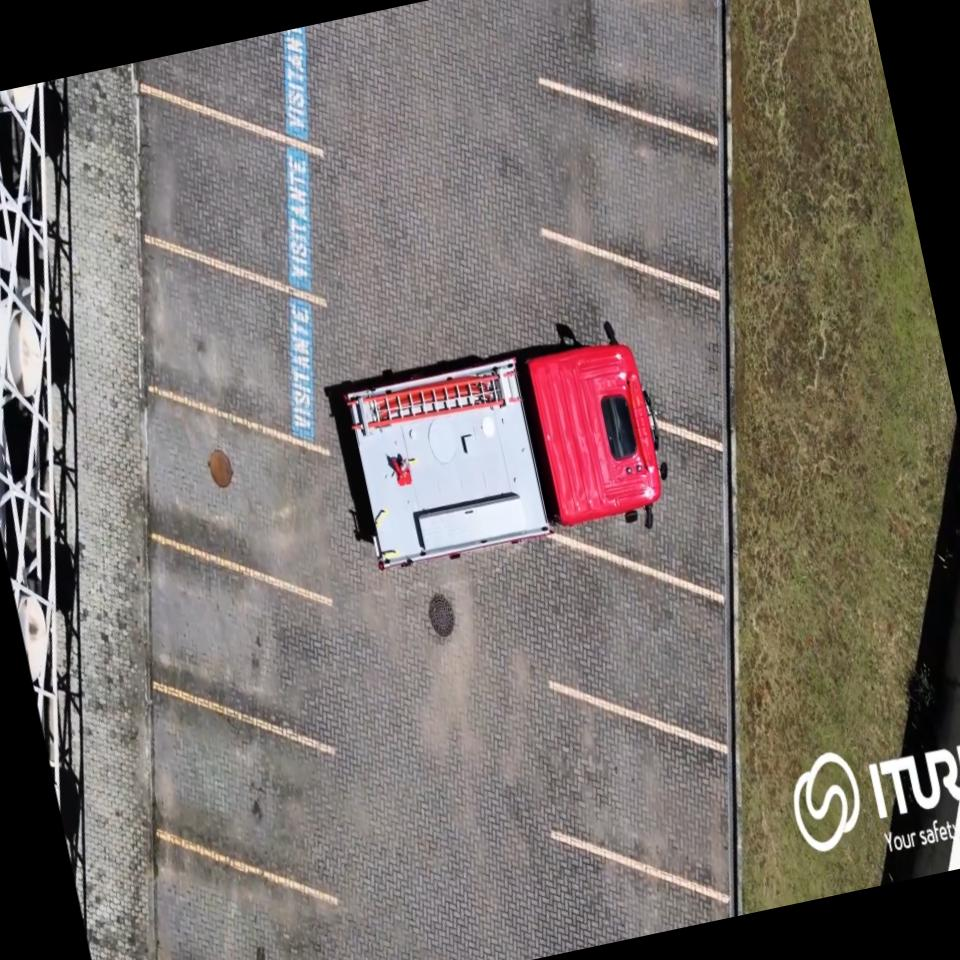viatura: (334, 308, 684, 590)
